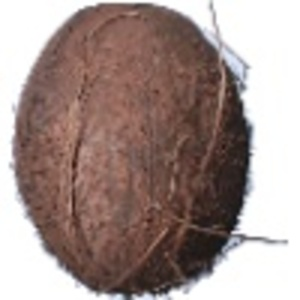coco: (13, 2, 287, 300)
